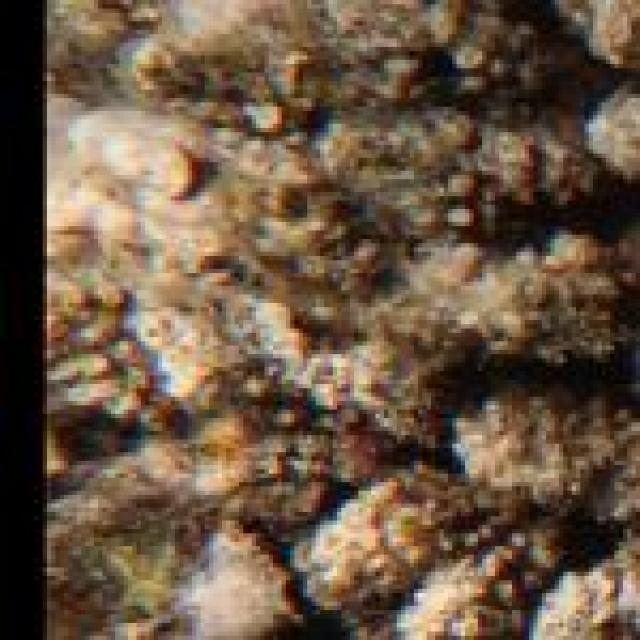Dead Coral: (339, 7, 640, 615)
